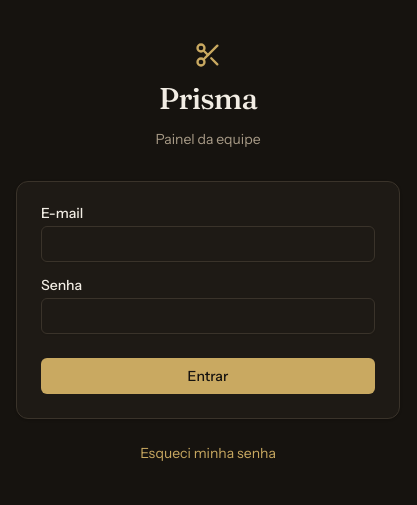
Test: LoginPage › erro genérico da API cai no banner com o detail, ou no fallback quando não há detail
Type "joao@barbearia.com" into the field labelled "E-mail" at (208, 244), box [41,226,375,262]
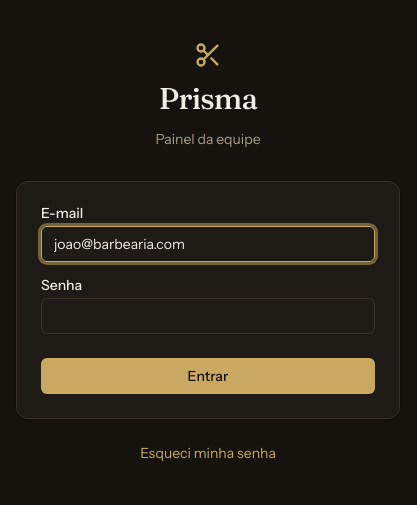
Type "segredo123" into the password field labelled "Senha" at (208, 316), box [41,298,375,334]
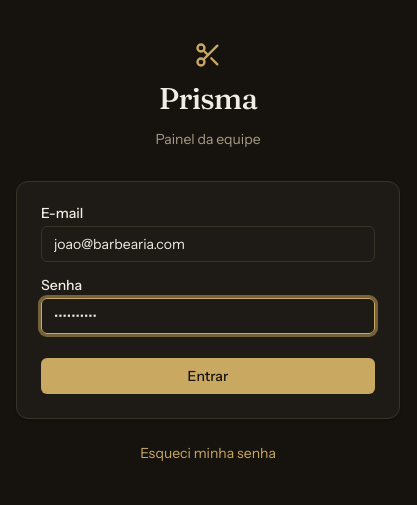
Click the button "Entrar" at (208, 376), box [41,358,375,394]
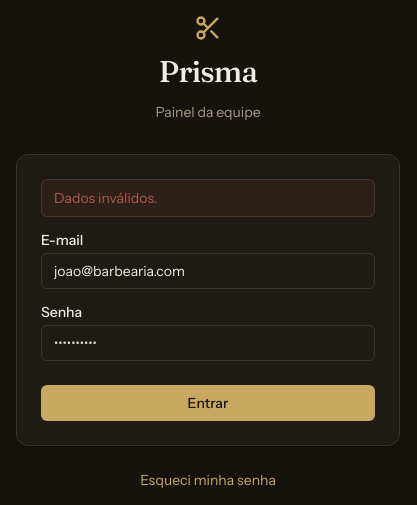
Check: the text "Dados inválidos." is shown, box [41,179,375,217]
